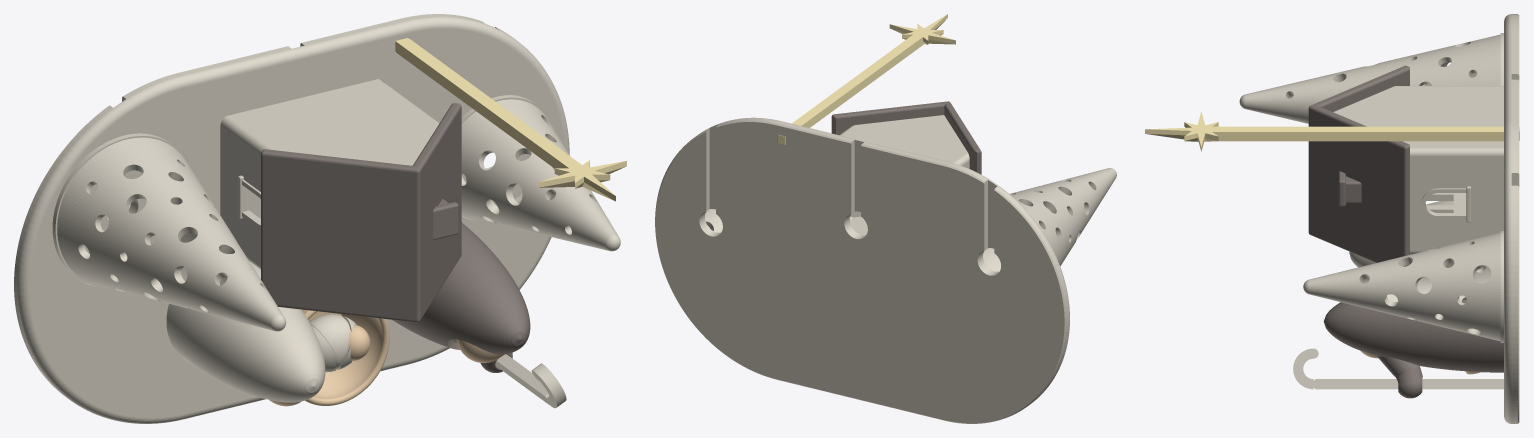
Rendered from belen_1_casa.glb.
3 views of the same model, side by side, from view 1: azimuth 30°, elevation 25°; view 2: azimuth 150°, elevation 25°; view 3: azimuth 270°, elevation 25° (orthographic). The views are drawn at different scales.
Parts seen in each view (by area): view 1: base_belen_1_casa_0, casa_grande_tejado_3, arbol_grande_4, casa_grande_cuerpo_2, arbol_mediano_5, maria_cuerpo_6, jose_cuerpo_11, estrella_con_palo_1, pesebre_cuenco_8, nino_cuerpo_9, jose_baston_13, nino_cabeza_10; view 2: base_belen_1_casa_0, arbol_grande_4, casa_grande_cuerpo_2, estrella_con_palo_1, casa_grande_tejado_3; view 3: casa_grande_cuerpo_2, casa_grande_tejado_3, arbol_mediano_5, jose_cuerpo_11, arbol_grande_4, base_belen_1_casa_0, estrella_con_palo_1, jose_baston_13.
Boxes of the visible parts, left/top/right/bottom form: base_belen_1_casa_0: left=14, top=14, right=569, bottom=423; casa_grande_tejado_3: left=261, top=103, right=461, bottom=322; arbol_grande_4: left=52, top=133, right=286, bottom=331; casa_grande_cuerpo_2: left=220, top=79, right=439, bottom=269; arbol_mediano_5: left=461, top=95, right=620, bottom=251; maria_cuerpo_6: left=166, top=261, right=325, bottom=402; jose_cuerpo_11: left=392, top=222, right=530, bottom=372; estrella_con_palo_1: left=395, top=38, right=626, bottom=201; pesebre_cuenco_8: left=302, top=309, right=389, bottom=405; nino_cuerpo_9: left=309, top=314, right=356, bottom=372; jose_baston_13: left=495, top=354, right=566, bottom=408; nino_cabeza_10: left=348, top=325, right=370, bottom=360; base_belen_1_casa_0: left=655, top=117, right=1069, bottom=423; arbol_grande_4: left=983, top=168, right=1116, bottom=271; casa_grande_cuerpo_2: left=840, top=115, right=969, bottom=235; estrella_con_palo_1: left=777, top=14, right=955, bottom=144; casa_grande_tejado_3: left=831, top=101, right=981, bottom=174; casa_grande_cuerpo_2: left=1333, top=86, right=1503, bottom=254; casa_grande_tejado_3: left=1308, top=65, right=1409, bottom=262; arbol_mediano_5: left=1303, top=231, right=1503, bottom=342; jose_cuerpo_11: left=1323, top=300, right=1503, bottom=398; arbol_grande_4: left=1239, top=33, right=1503, bottom=123; base_belen_1_casa_0: left=1504, top=14, right=1519, bottom=423; estrella_con_palo_1: left=1145, top=111, right=1519, bottom=151; jose_baston_13: left=1293, top=348, right=1503, bottom=389.
Bounding box in the file's own units: 210 × 125 × 147.
